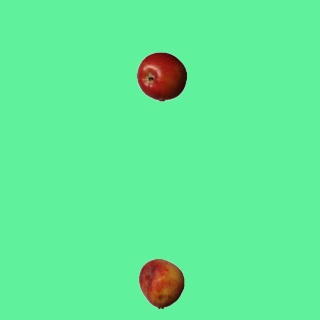Apple Braeburn: (136, 51, 186, 101)
Peach: (136, 258, 186, 308)
